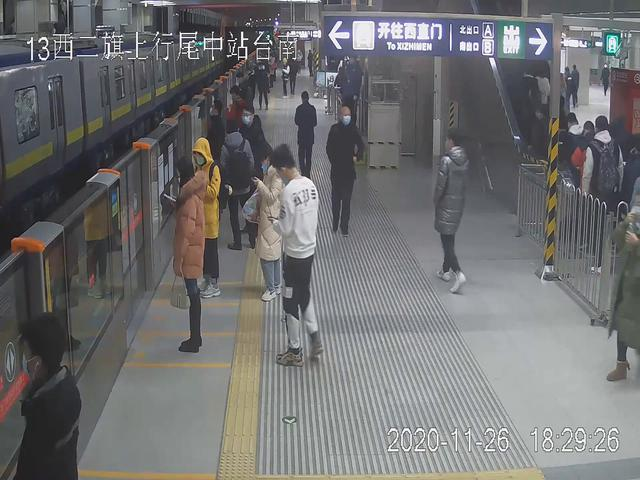person: (268, 144, 328, 367), (9, 312, 83, 480), (164, 156, 207, 355), (432, 126, 472, 295), (250, 149, 290, 303), (191, 136, 223, 295), (329, 103, 362, 236), (290, 88, 321, 194)
